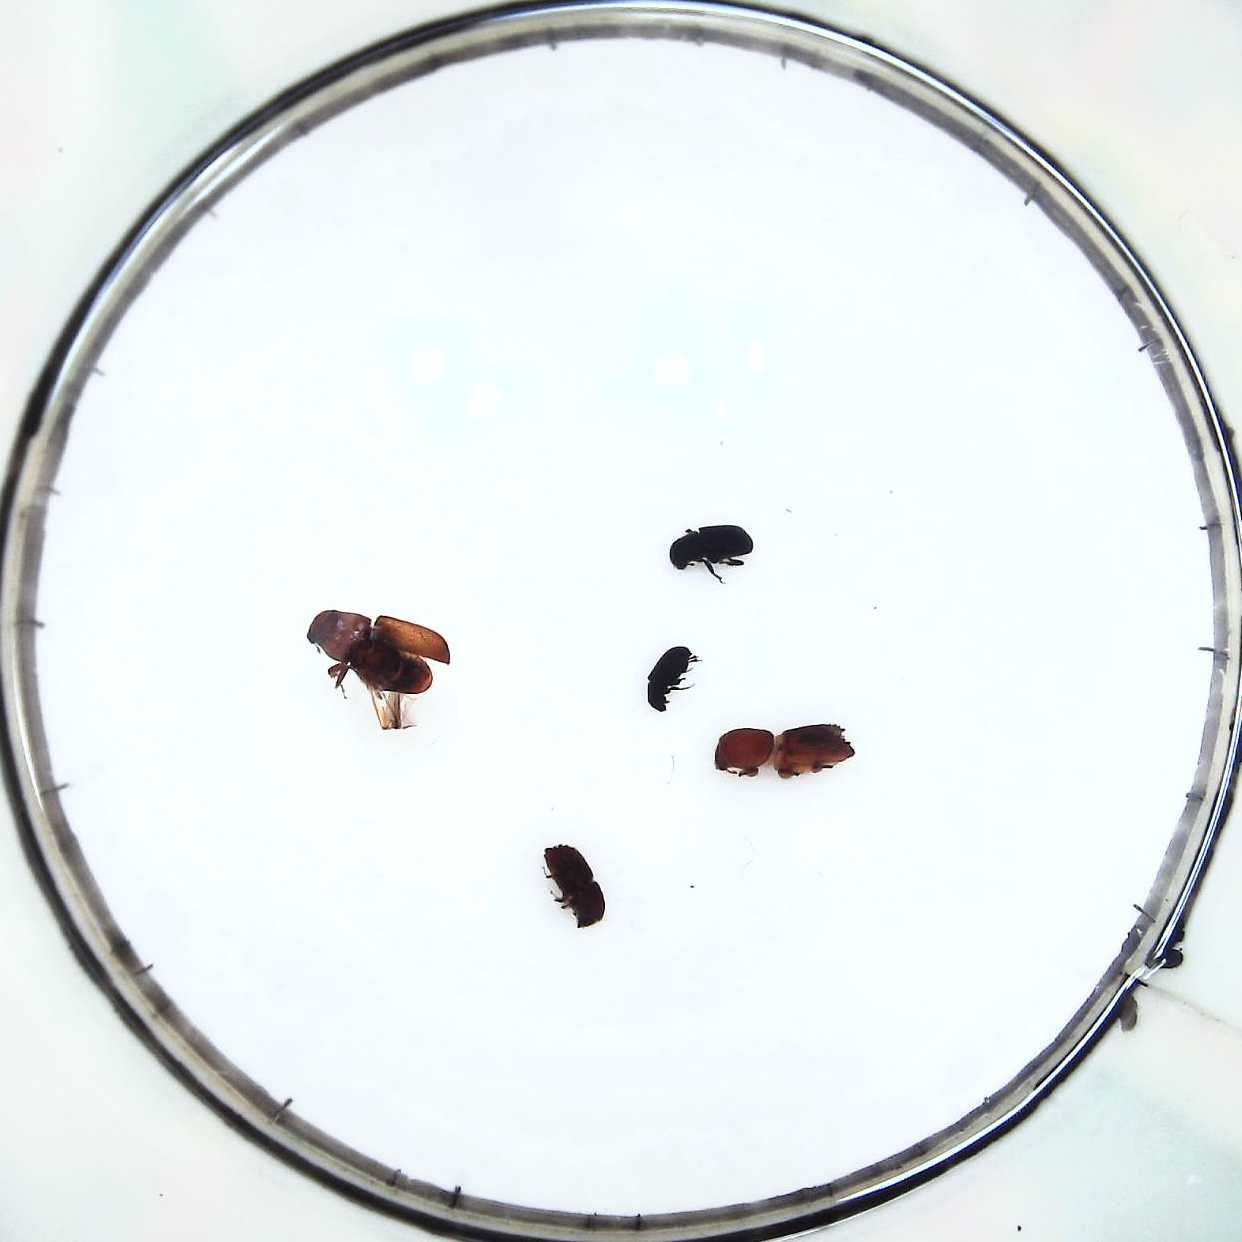Boerner: (712, 717, 856, 778)
Leconte: (309, 602, 453, 727)
Linnaeus: (541, 839, 608, 924)
armandi: (665, 527, 753, 573)
coleoptera: (643, 649, 695, 705)
